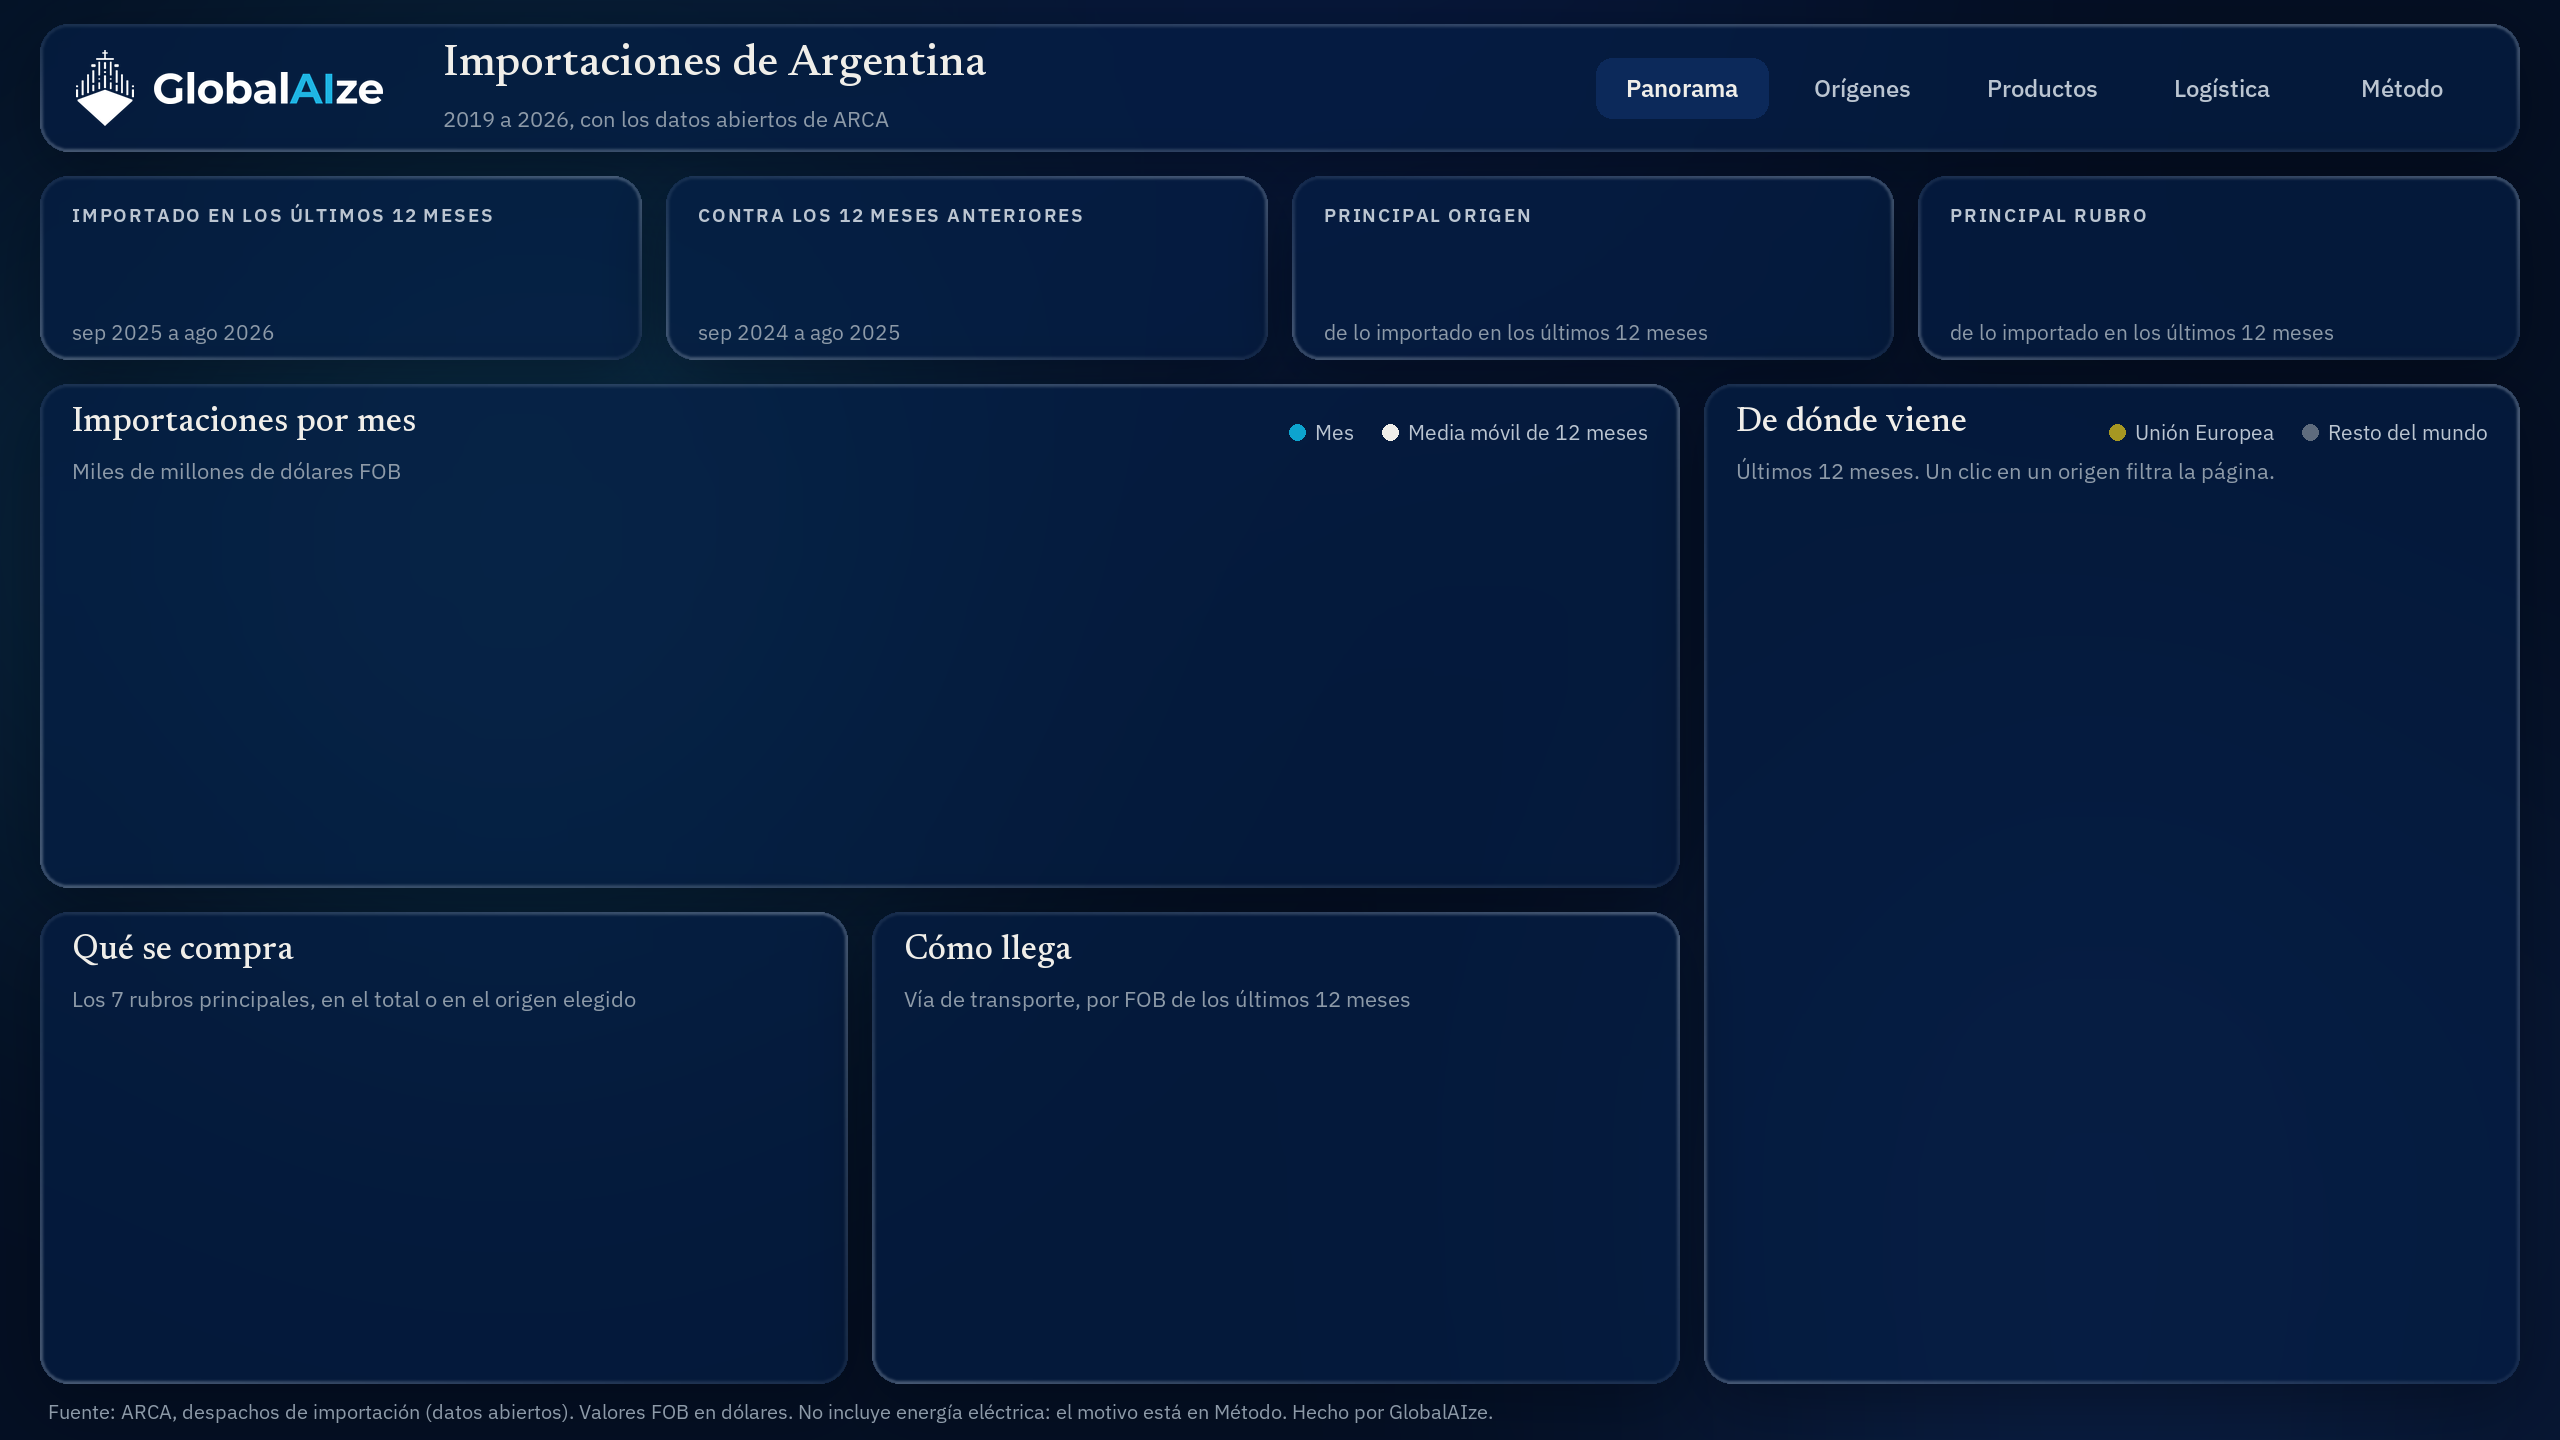

Layout of this report page (visuals, bound fields, positions):
{"tool":"tableau","page":{"name":"Panorama","canvas":[1280,720],"ordinal":0},"visuals":[{"type":"image","param":"fondos/panorama.png","box":[0,0,1280,720]},{"type":"dashboard-object","box":[888,29,86,30]},{"type":"dashboard-object","box":[978,29,86,30]},{"type":"dashboard-object","box":[1068,29,86,30]},{"type":"dashboard-object","box":[1158,29,86,30]},{"type":"worksheet","title":"KPI importado","mark":"Text","box":[32,109,277,52]},{"type":"worksheet","title":"KPI variación","mark":"Text","box":[345,109,277,52]},{"type":"worksheet","title":"KPI origen","mark":"Text","box":[658,109,277,52]},{"type":"worksheet","title":"KPI rubro","mark":"Text","box":[971,109,277,52]},{"type":"worksheet","title":"Evolución mensual","mark":"Automatic","rows":["c_fob_mm","c_mm12"],"cols":["Fecha"],"box":[32,248,796,186]},{"type":"worksheet","title":"Principales orígenes","mark":"Bar","rows":["País de origen"],"cols":["c_u12_mm"],"box":[864,248,384,434]},{"type":"worksheet","title":"Principales rubros","mark":"Bar","rows":["Rubro"],"cols":["c_u12_mm"],"box":[32,512,380,170]},{"type":"worksheet","title":"Vías de transporte","mark":"Bar","rows":["Vía (grupo)"],"cols":["c_u12_mm"],"box":[448,512,380,170]}]}

Visuals, with their boxes in screenshot pixels (x1, y1, x2, y2), scaled from the page's 1280x720 canvas onto the 2560x1440 screenshot:
image: box=[0, 0, 2559, 1439]
dashboard-object: box=[1776, 58, 1948, 118]
dashboard-object: box=[1956, 58, 2128, 118]
dashboard-object: box=[2136, 58, 2308, 118]
dashboard-object: box=[2316, 58, 2488, 118]
"KPI importado" worksheet (Text marks): box=[64, 218, 618, 322]
"KPI variación" worksheet (Text marks): box=[690, 218, 1244, 322]
"KPI origen" worksheet (Text marks): box=[1316, 218, 1870, 322]
"KPI rubro" worksheet (Text marks): box=[1942, 218, 2496, 322]
"Evolución mensual" worksheet: box=[64, 496, 1656, 868]
"Principales orígenes" worksheet (Bar marks): box=[1728, 496, 2496, 1364]
"Principales rubros" worksheet (Bar marks): box=[64, 1024, 824, 1364]
"Vías de transporte" worksheet (Bar marks): box=[896, 1024, 1656, 1364]
